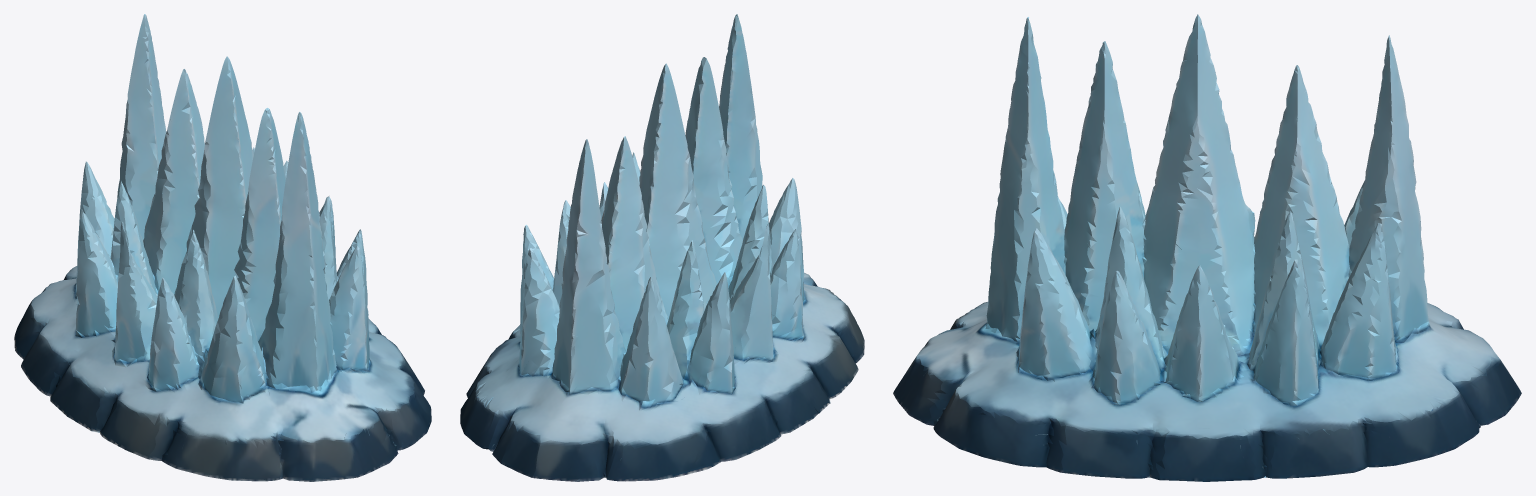
Rendered from Hollow_Stalagmites.glb.
3 renders of one model, left to right at view 1: azimuth 30°, elevation 25°; view 2: azimuth 150°, elevation 25°; view 3: azimuth 270°, elevation 25°, orthographic. The views are drawn at different scales.
Visible parts, largest first — view 1: Cave_Stalagmites; view 2: Cave_Stalagmites; view 3: Cave_Stalagmites.
Boxes of the visible parts, x1,y1,x2,y2 form: Cave_Stalagmites: (14,14,431,481); Cave_Stalagmites: (460,14,864,481); Cave_Stalagmites: (893,14,1521,481).
Size of the model in its own units: 1.6 by 1.6 by 2.4.
Materials: 1 (1 with a texture image).
